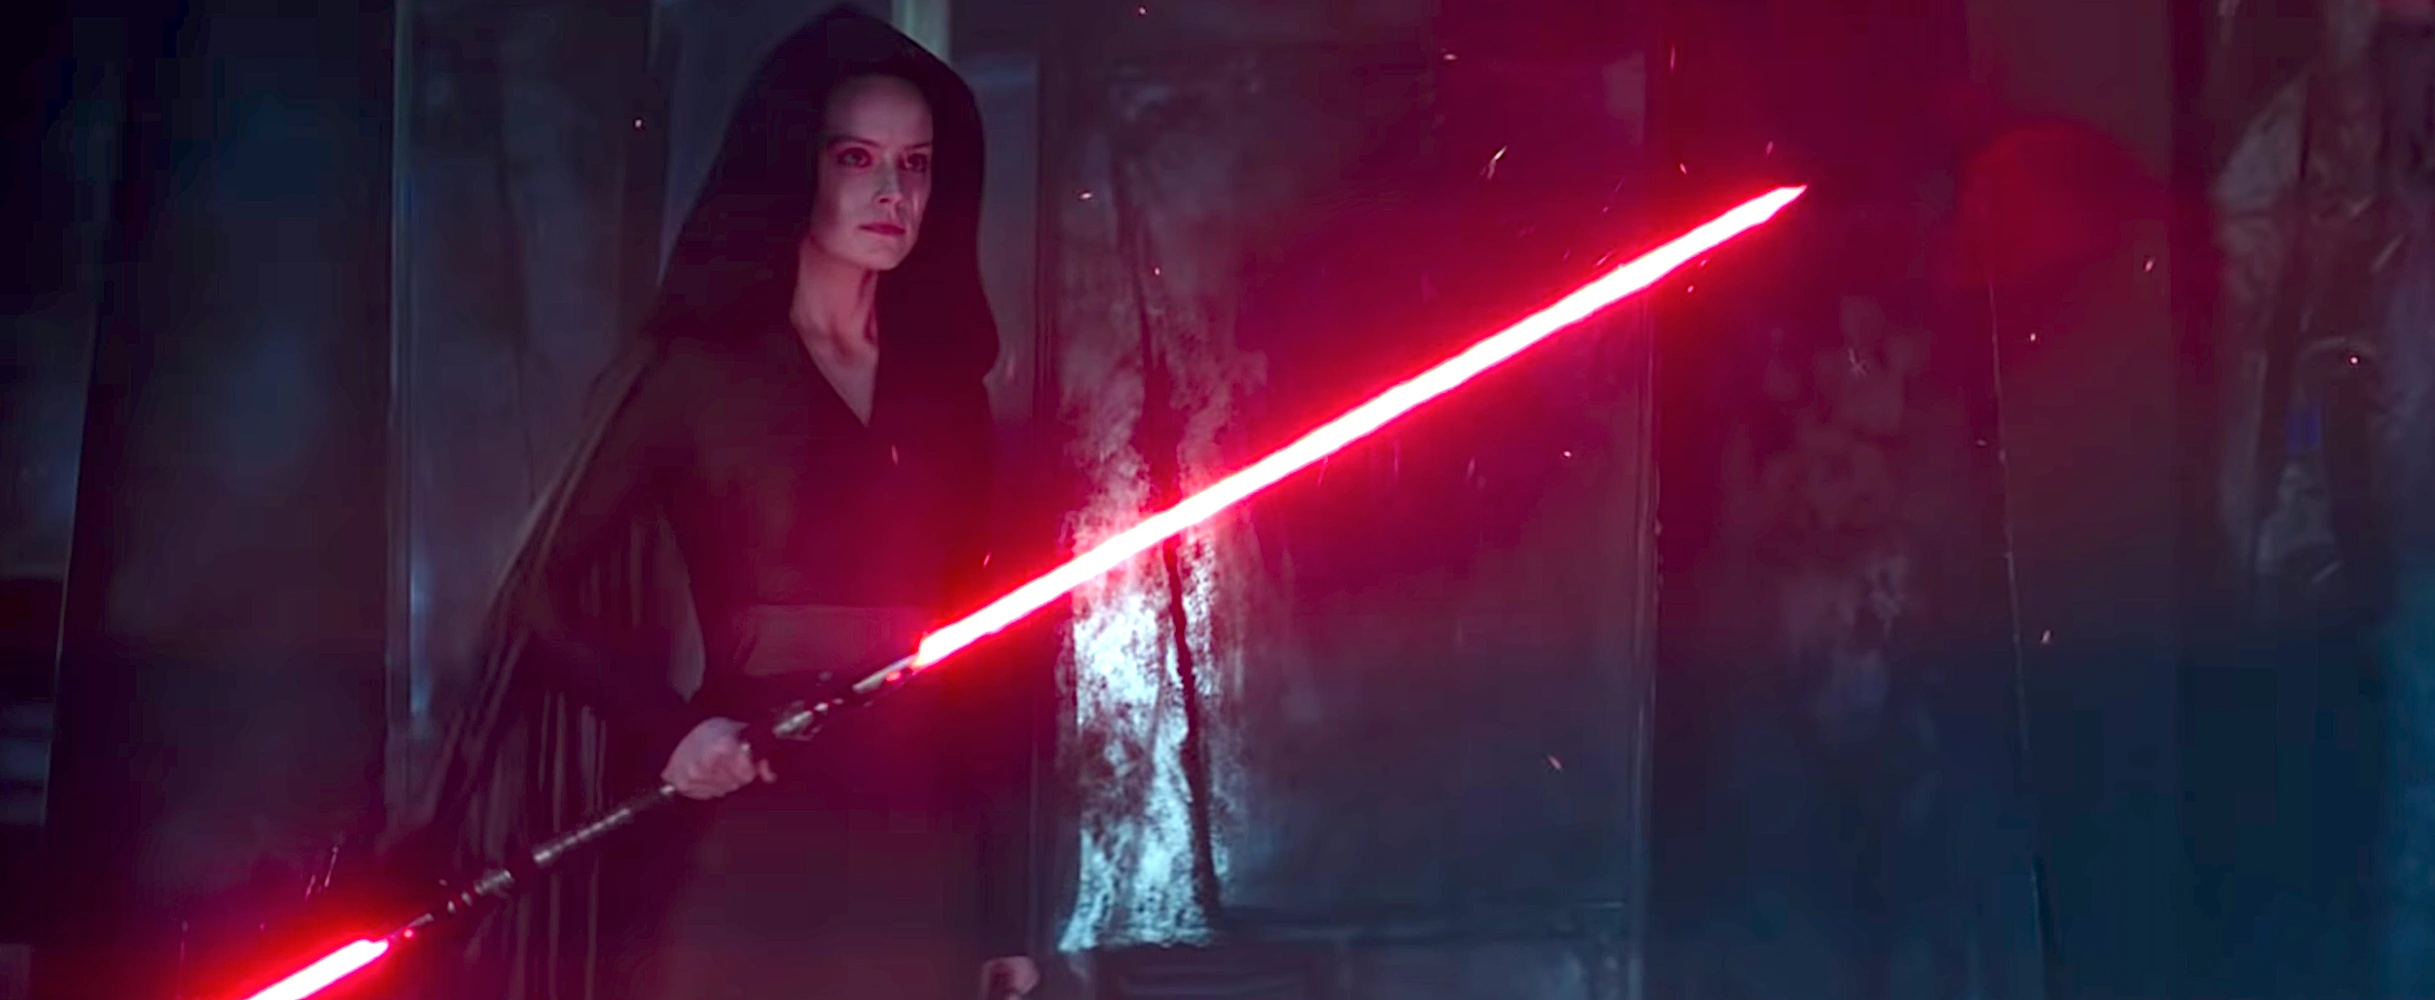cats: (222, 177, 1811, 1000)
